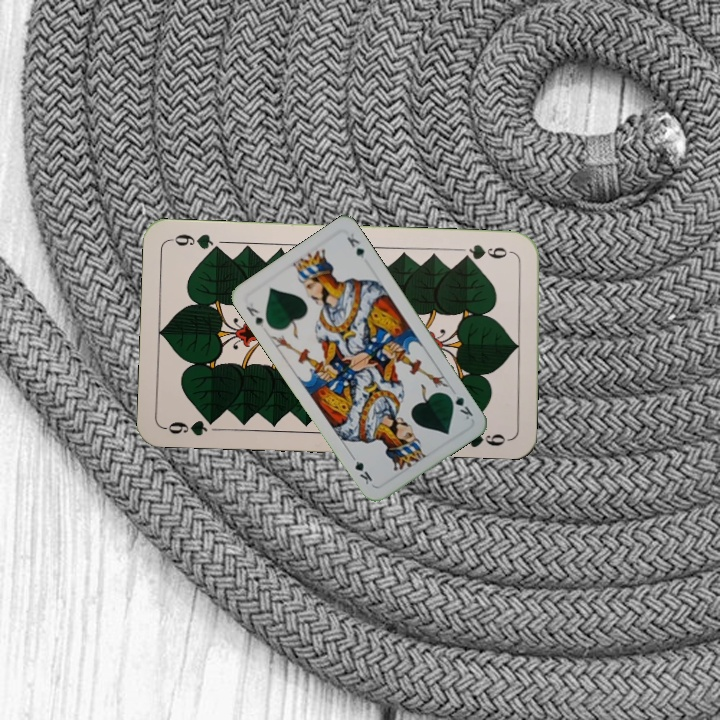G9: (161, 413, 221, 439), (457, 240, 517, 263)
GK: (444, 390, 475, 422), (242, 299, 269, 334)
